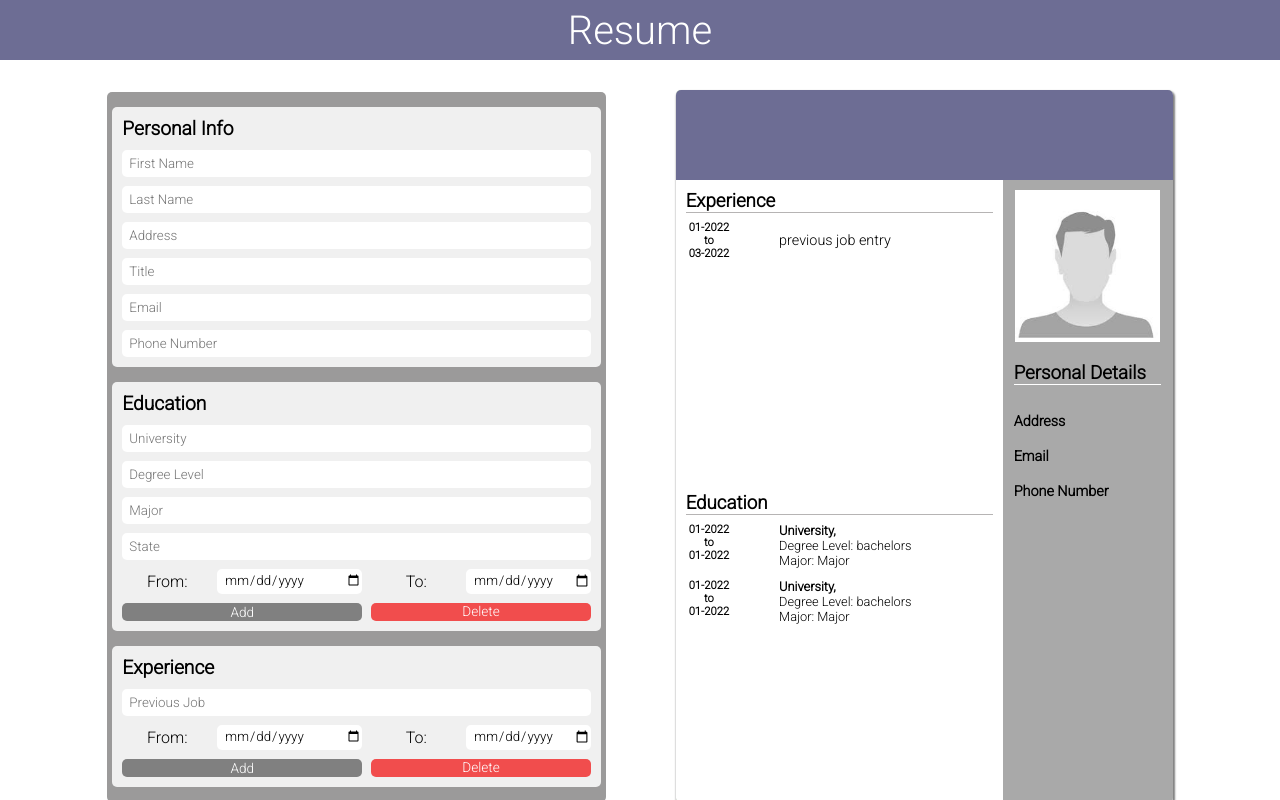
it: experience input section taking input and rendering through state read properly › delete function works and erases previous entries from the dom
In the field with placeholder "Previous Job": (356, 702) [122,688,591,716], type "previous job entry"
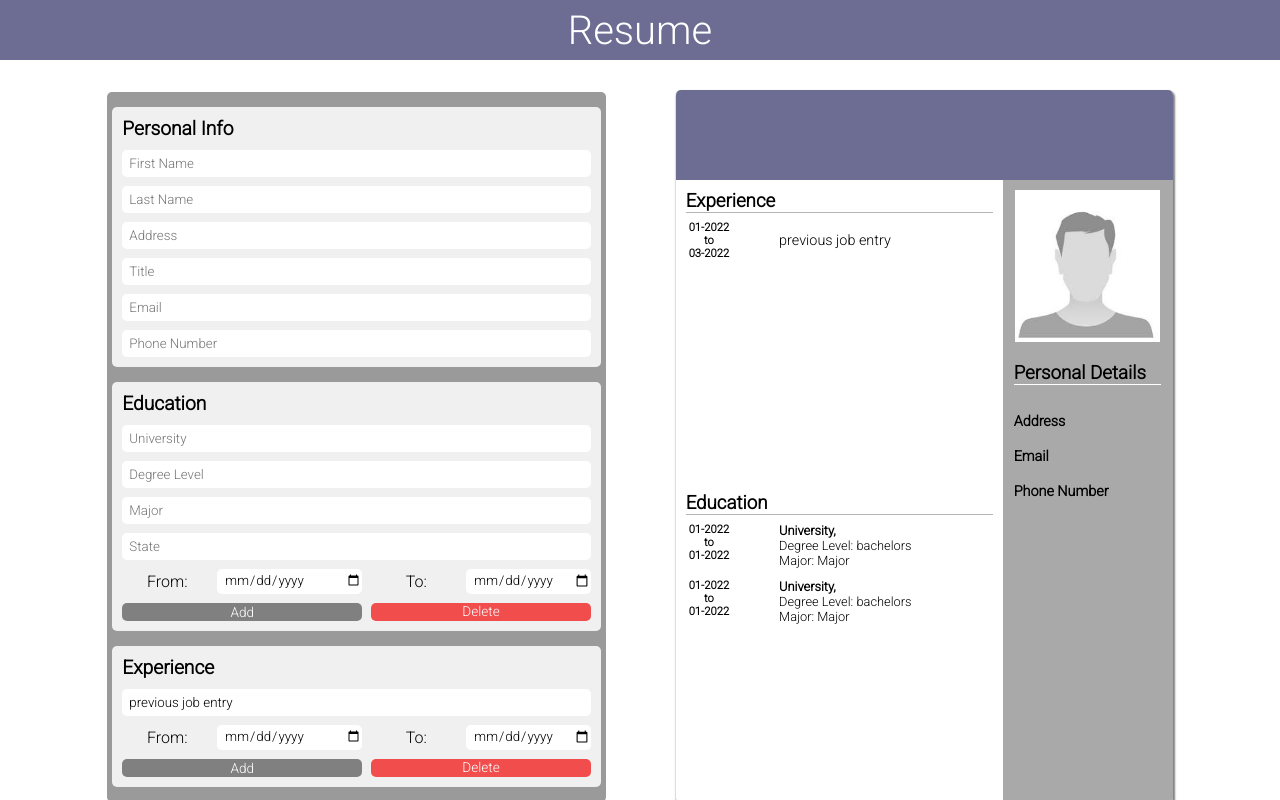
In the date field with test id "previousJobFrom": (290, 737) [217,724,362,750], type "2022-01-21"
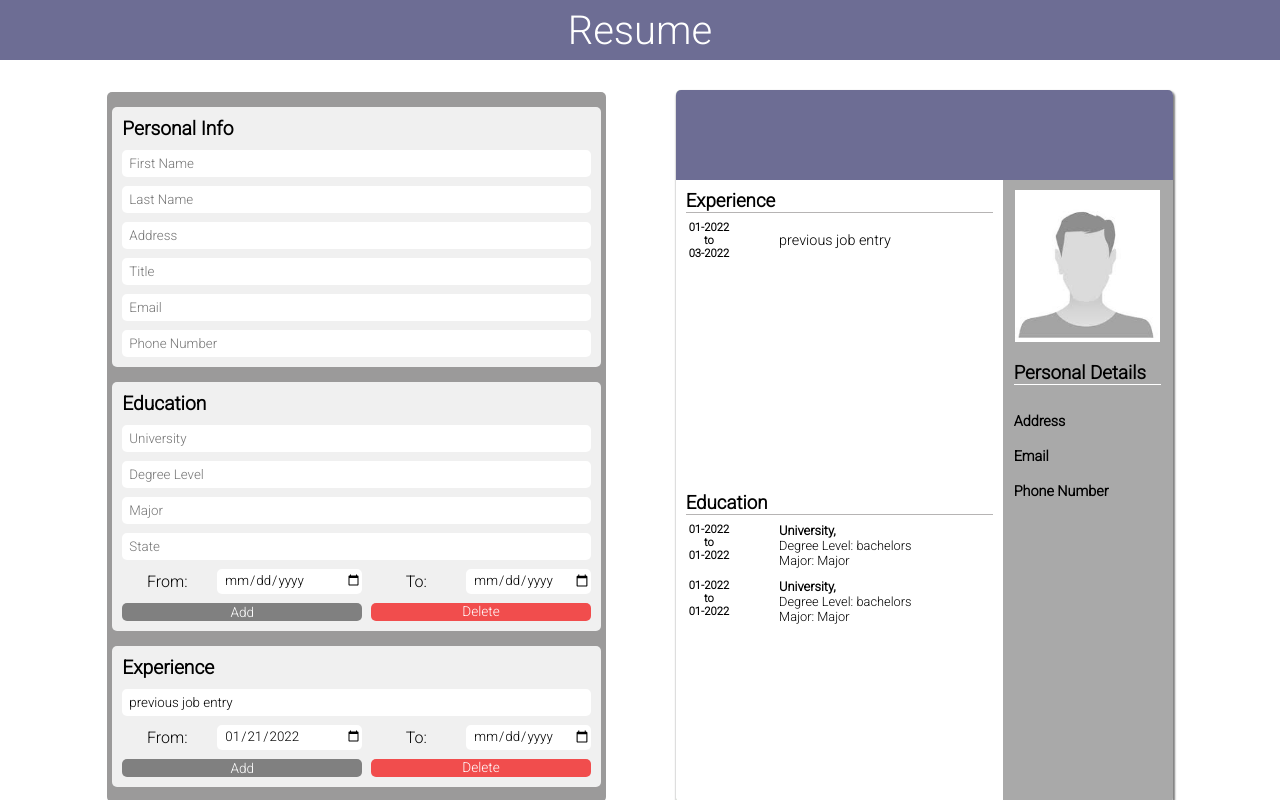
In the date field with test id "previousJobTo": (528, 737) [466,724,591,750], type "2022-03-21"
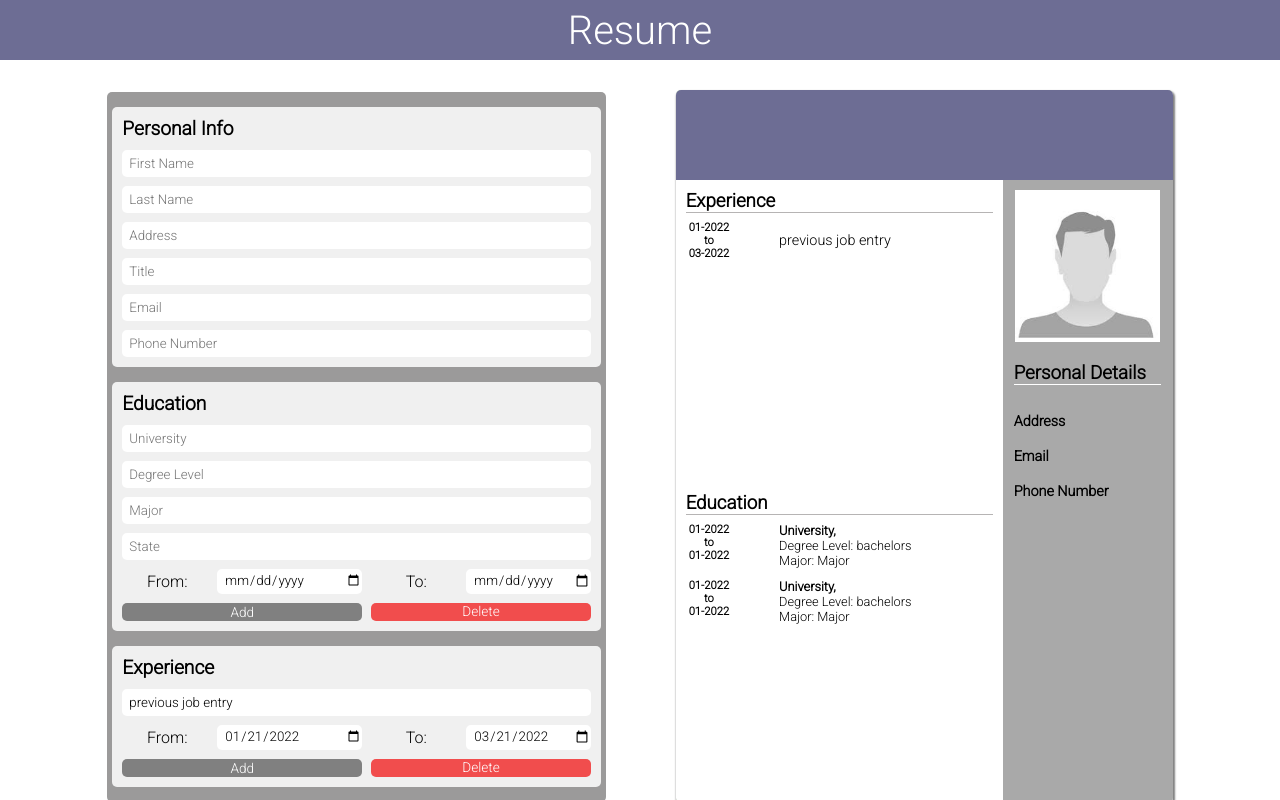
Click the button with test id "experienceAddBtn": (242, 768) [122,758,362,776]
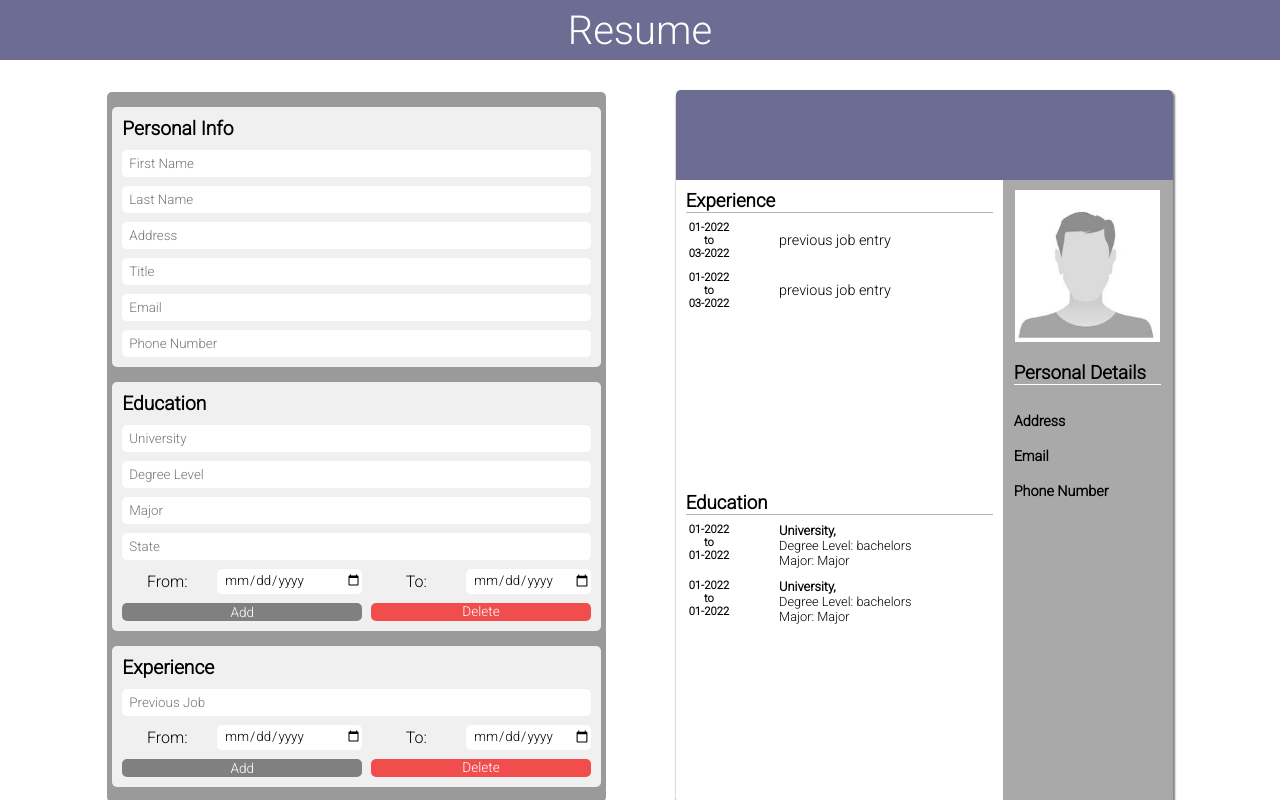
Click the text with test id "experienceDeleteBtn": (481, 768) [371,758,591,776]
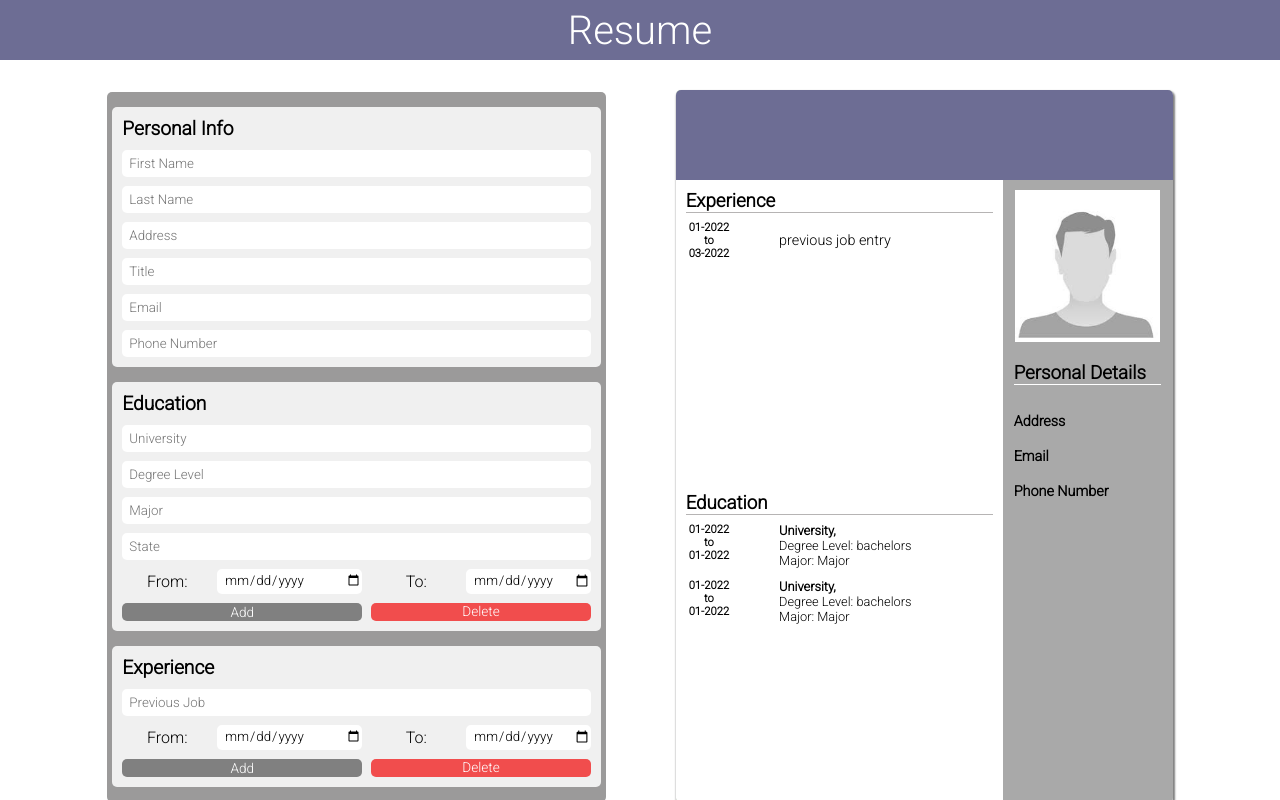
Note: called twice to erase render from previous test
Click the text with test id "experienceDeleteBtn": (481, 768) [371,758,591,776]
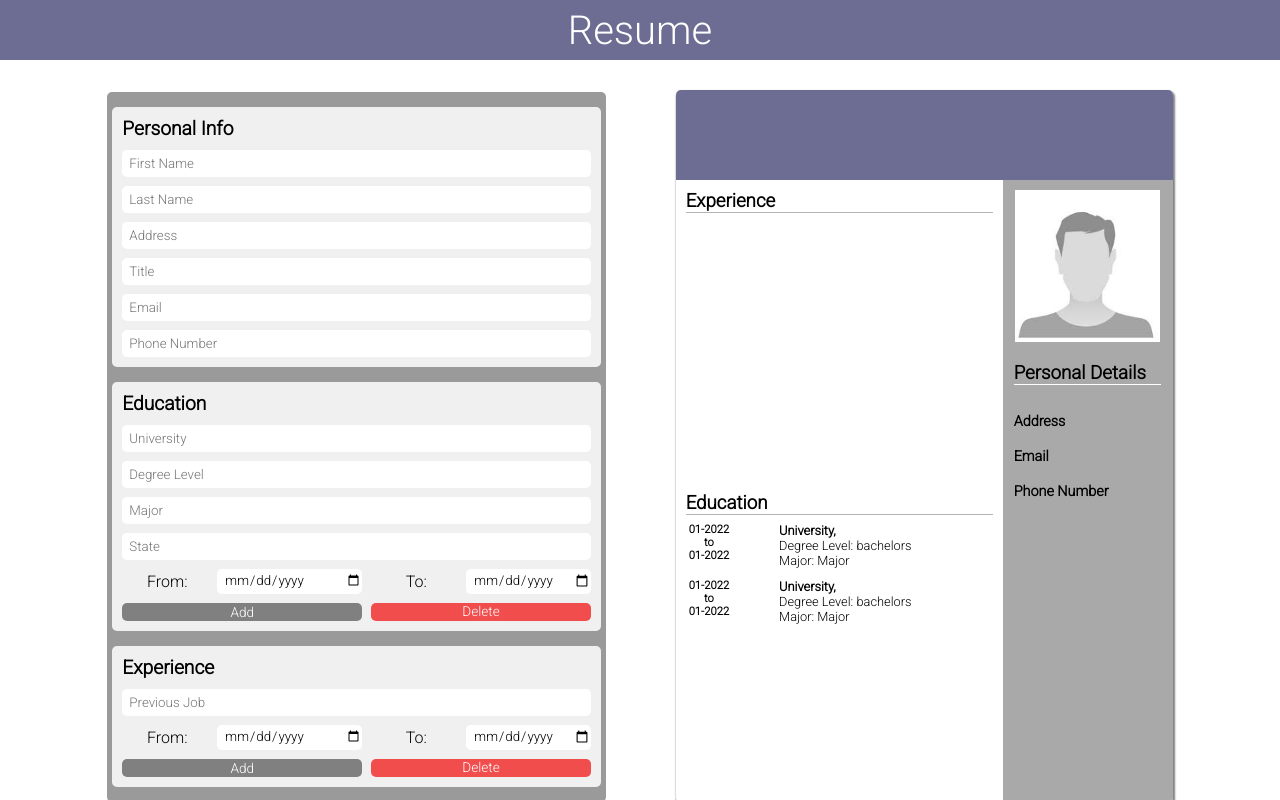
Now the element with test id "renderedExpItem" is gone
